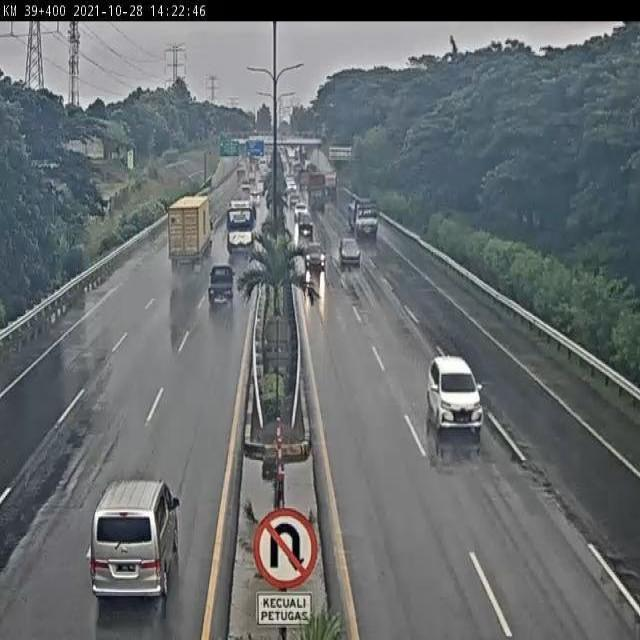Bus: (226, 195, 259, 257)
Car: (426, 354, 483, 437), (338, 236, 364, 268), (303, 242, 328, 272)
Truck: (166, 192, 213, 269), (347, 190, 381, 241), (205, 263, 237, 306)
Van: (89, 476, 181, 600)
